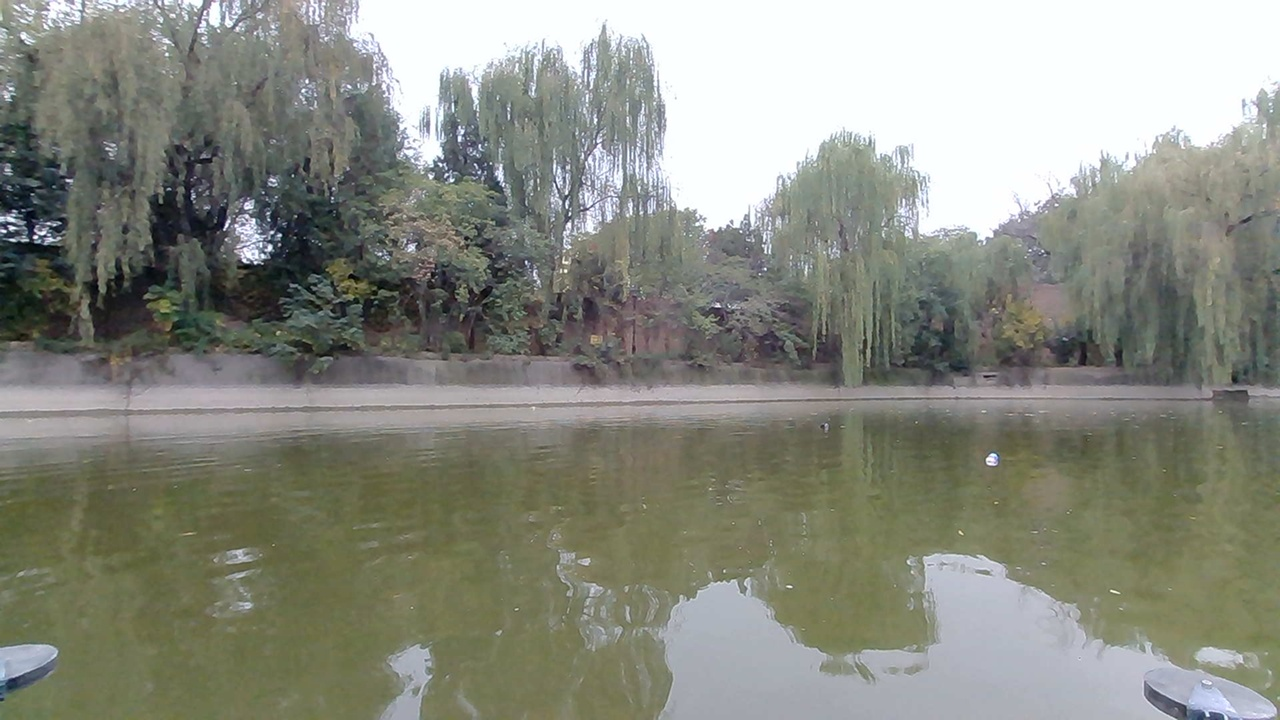bottle: (973, 442, 1012, 471), (811, 413, 839, 439)
